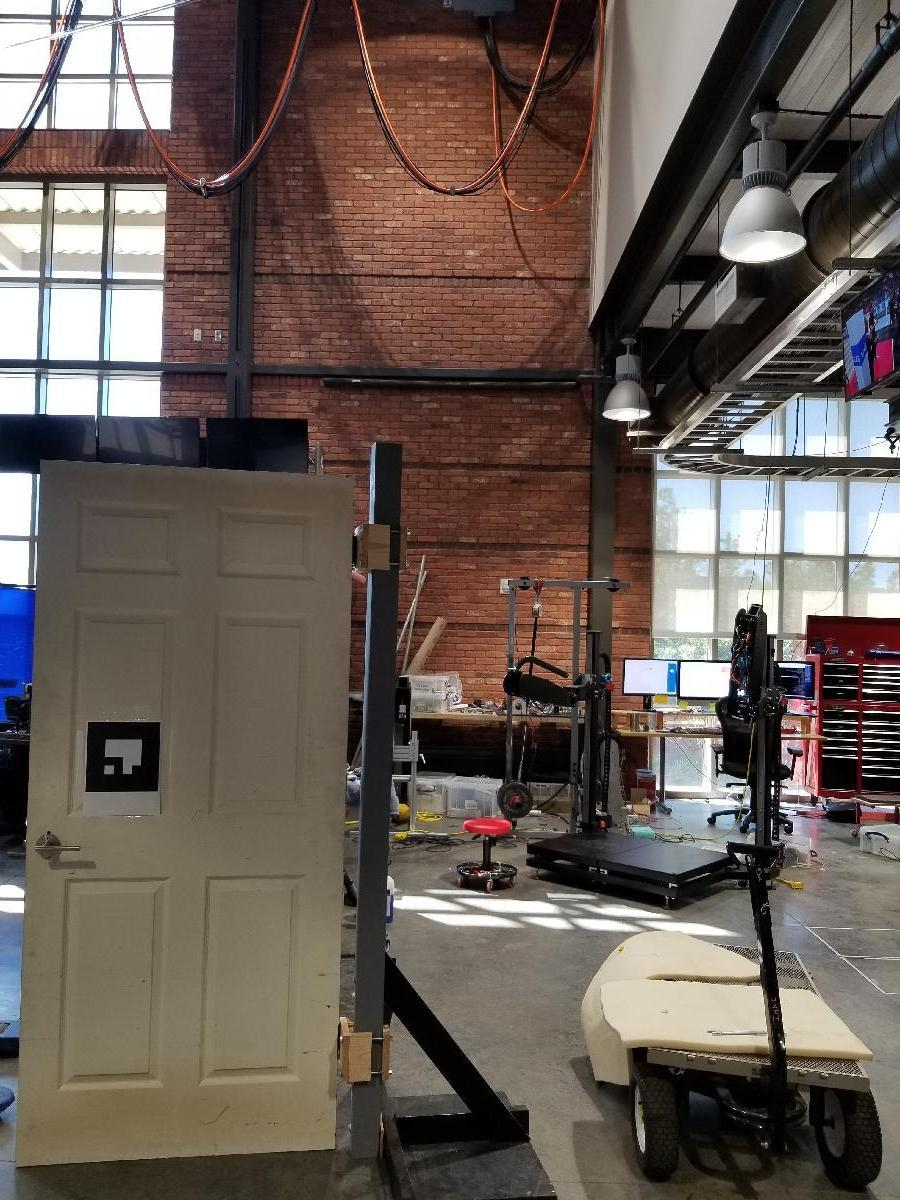door: (10, 458, 352, 1167)
handle: (33, 832, 86, 862)
